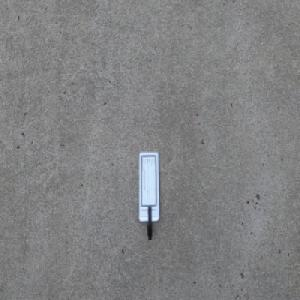LuggageTag: (137, 151, 159, 242)
